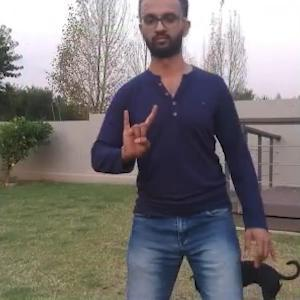takeoff-hand: (114, 91, 162, 168)
